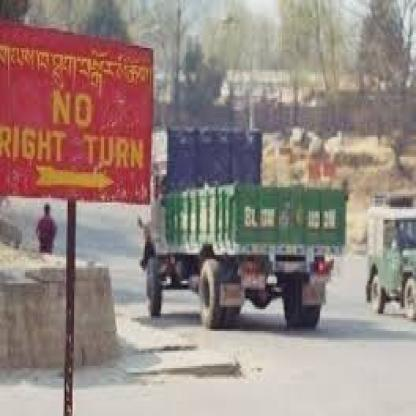car: (132, 108, 347, 354), (355, 178, 416, 344)
